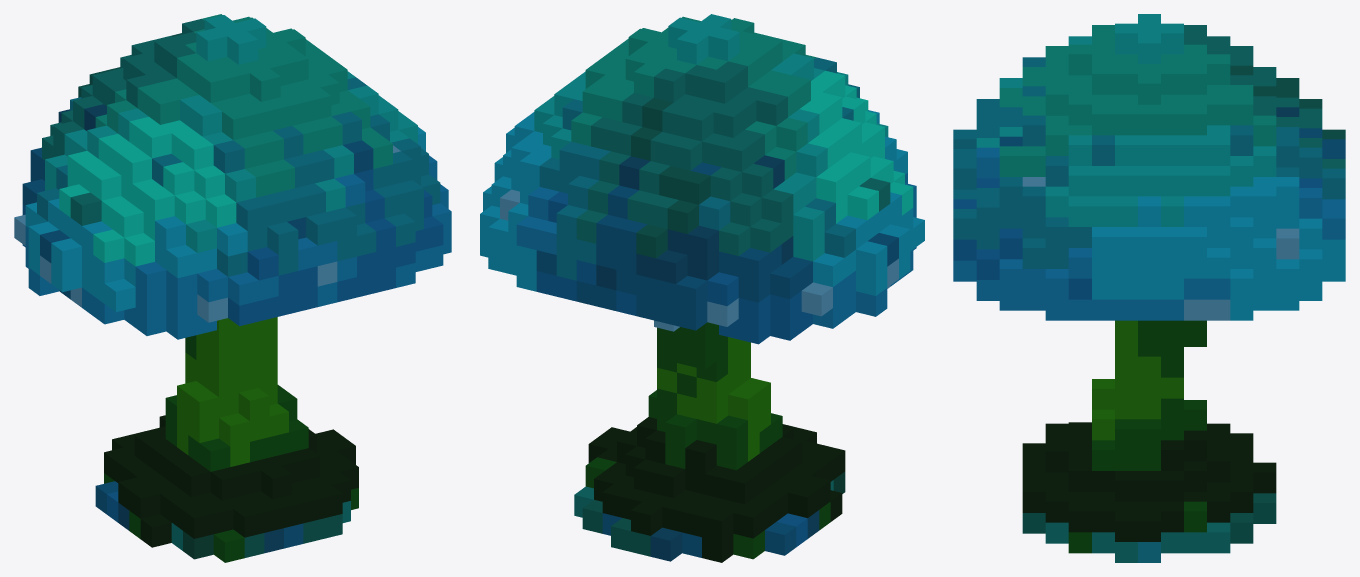
File: overseer-tree-3-named-nodes.glb
3 renders of one model, left to right at view 1: azimuth 30°, elevation 25°; view 2: azimuth 150°, elevation 25°; view 3: azimuth 270°, elevation 25°, orthographic. The views are drawn at different scales.
Visible parts, largest first — view 1: geometry_0; view 2: geometry_0; view 3: geometry_0.
Boxes of the visible parts, <box> form: geometry_0: <box>14,14,451,562</box>; geometry_0: <box>480,14,924,562</box>; geometry_0: <box>953,14,1345,562</box>.
Bounding box in the file's own units: 0.8454 × 1.08 × 0.7985.
Materials: 1 (1 with a texture image).
